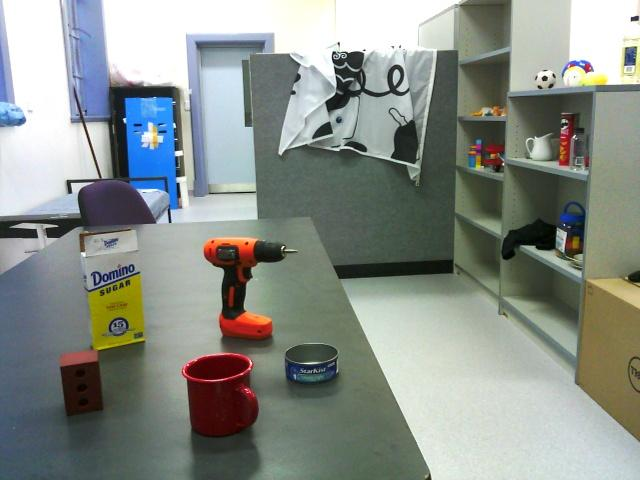004_sugar_box: (77, 226, 147, 351)
007_tuna_fish_can: (284, 342, 342, 386)
025_mug: (181, 352, 260, 438)
035_power_drill: (201, 235, 302, 340)
061_foam_brick: (58, 350, 107, 420)
